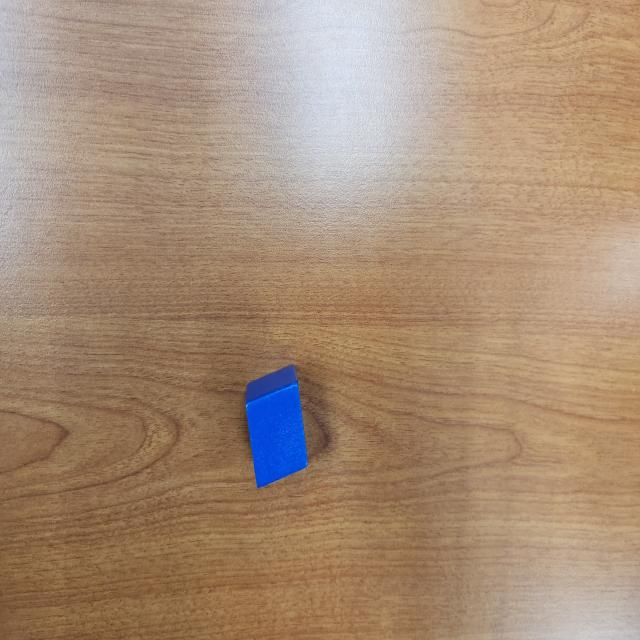blue: (246, 364, 308, 489)
